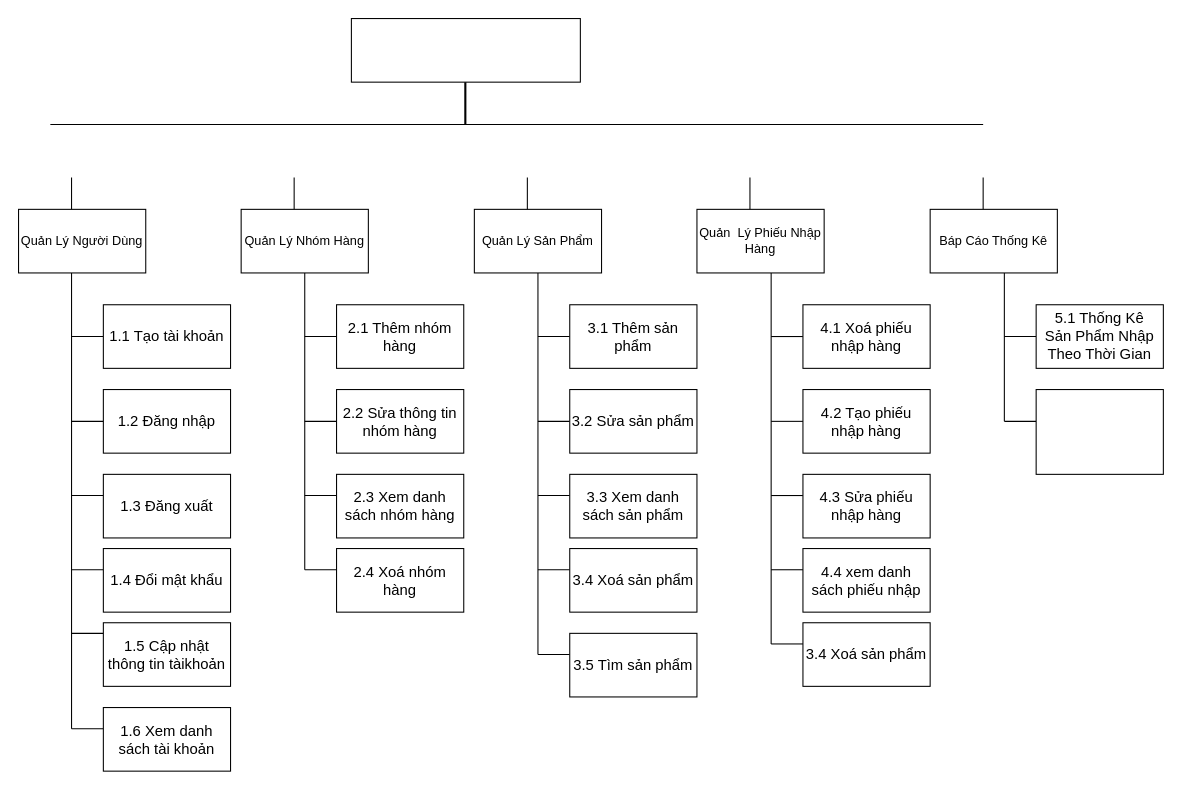
Image size: 1182x790. Some labels were removed from this diagram. The shapes that lost their labels are listed below. From the top down, each one's centre as x and y in pixels, then its label:
(465,49): Quản Lý Nhập Hàng Thiết Bị Bếp
(1099,431): 5.2 Thống Kê Sản Phẩm NhậpTheo Nhóm Hàng và Thời Gian
